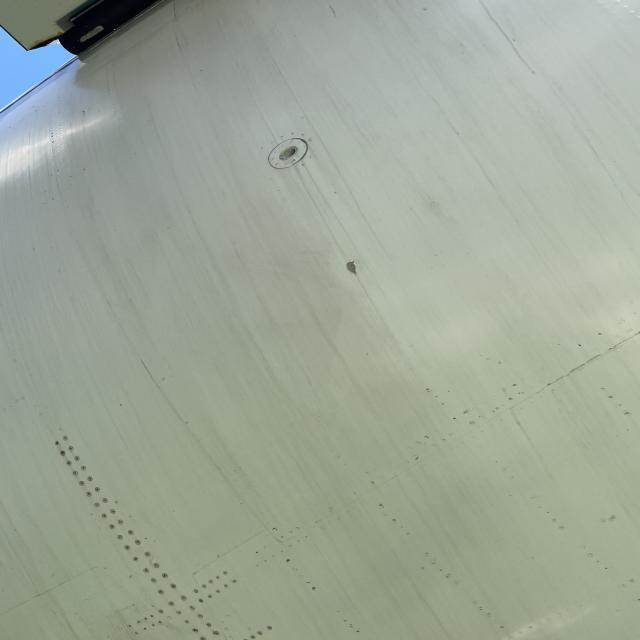crack: (137, 359, 160, 387), (344, 254, 360, 278)
